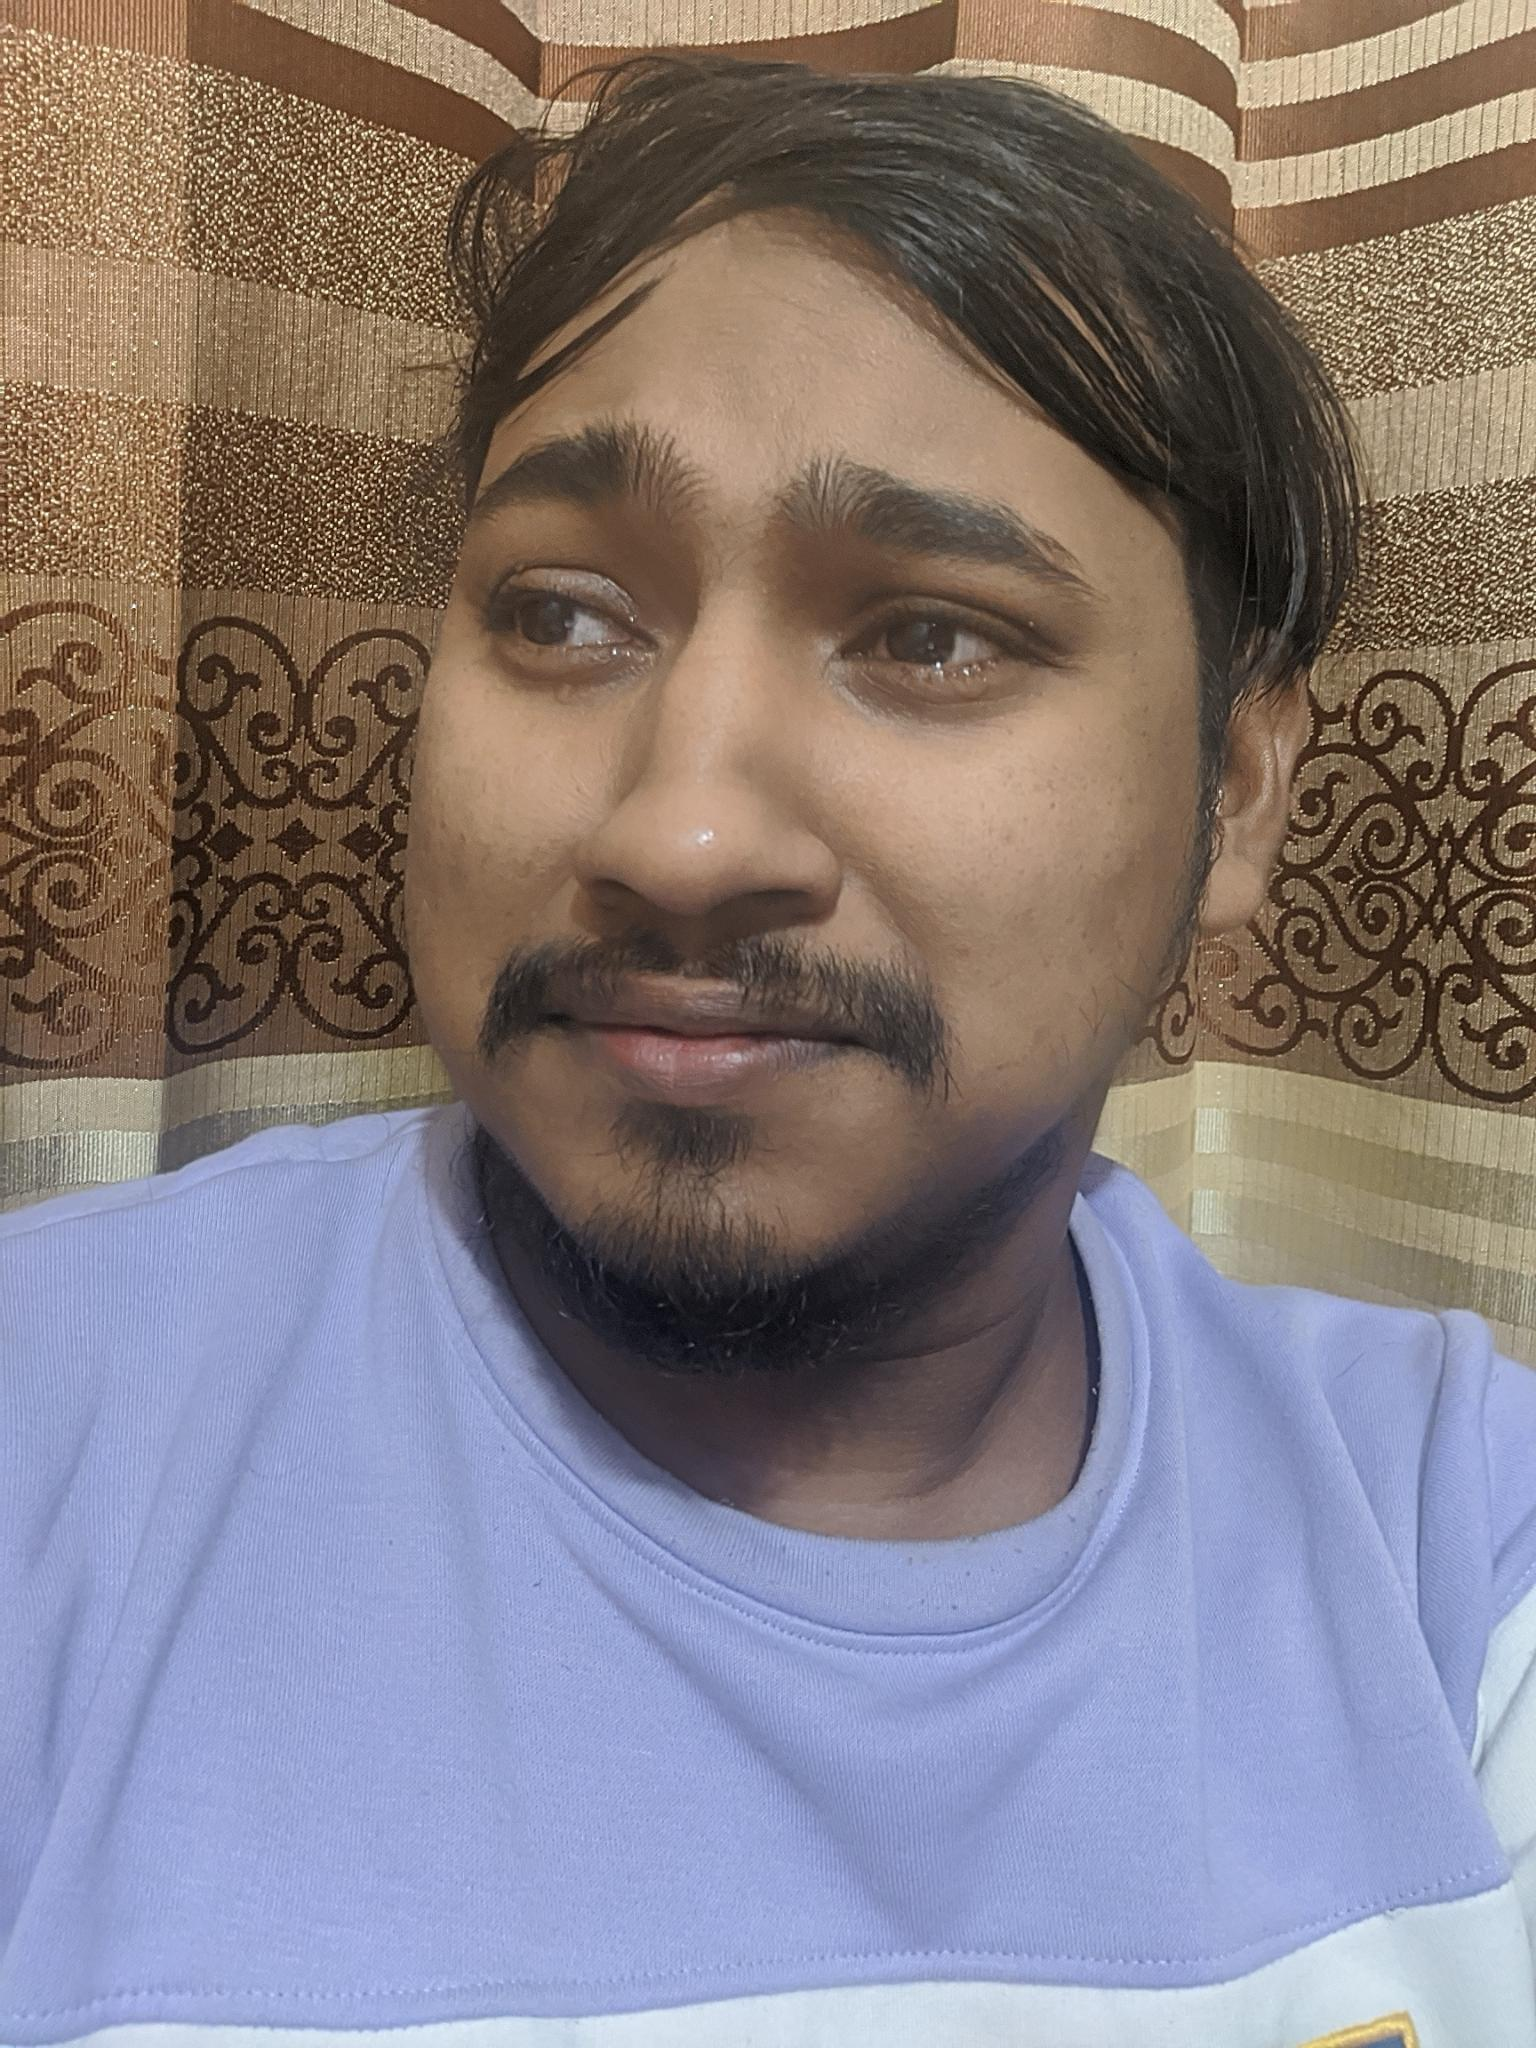Sad: (355, 323, 1147, 1317)
